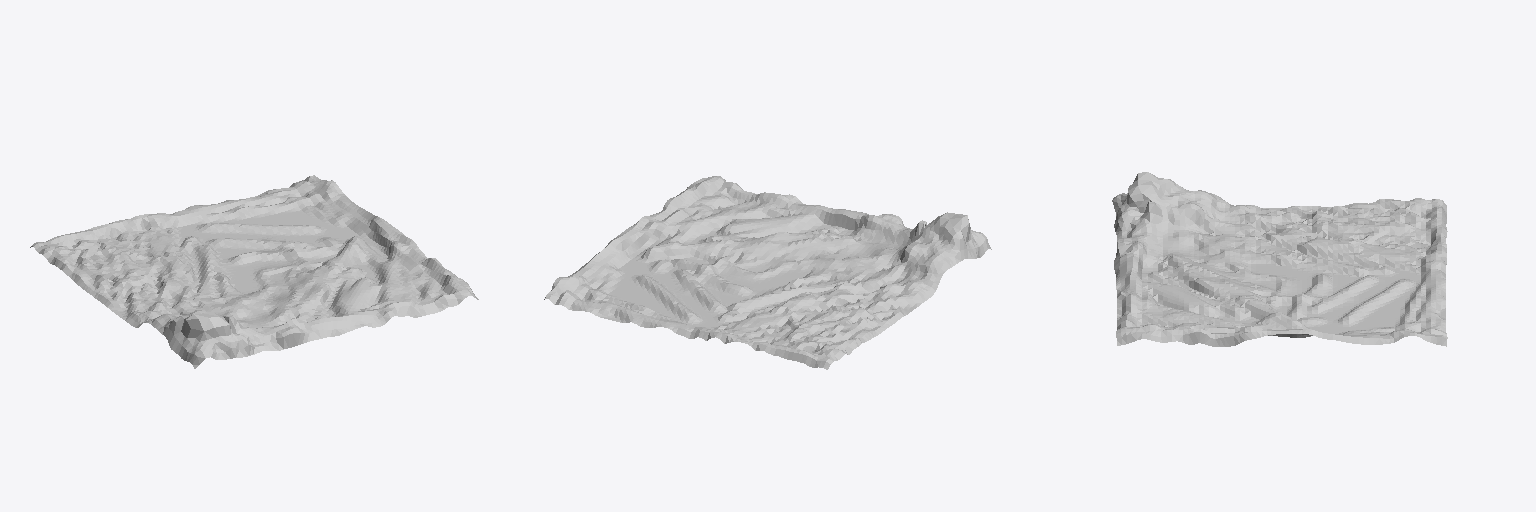
The model's file is terrain.obj.
3 views of the same model, side by side, from view 1: azimuth 30°, elevation 25°; view 2: azimuth 150°, elevation 25°; view 3: azimuth 270°, elevation 25° (orthographic).
Visible parts, largest first — view 1: Plane_Plane.004; view 2: Plane_Plane.004; view 3: Plane_Plane.004.
Boxes of the visible parts, <box> form: Plane_Plane.004: <box>30,175,478,368</box>; Plane_Plane.004: <box>544,176,991,369</box>; Plane_Plane.004: <box>1112,172,1447,346</box>.
Bounding box in the file's own units: 102 × 14.3 × 102.